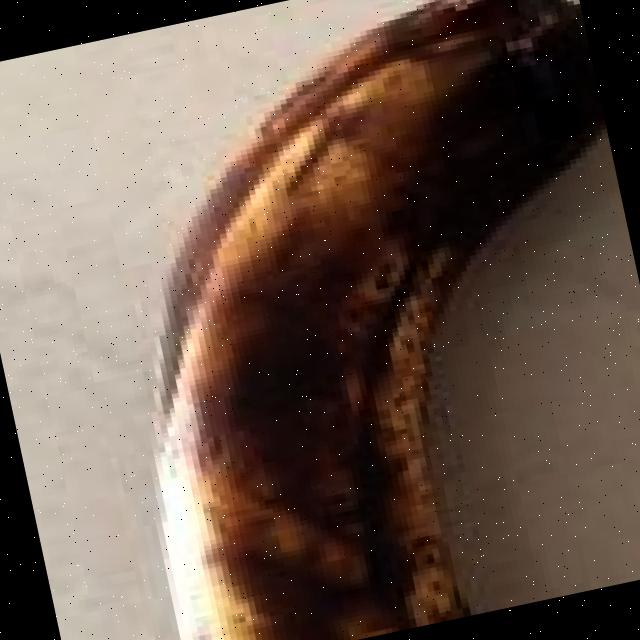Bad_Banana-0 day: (161, 0, 605, 640)
